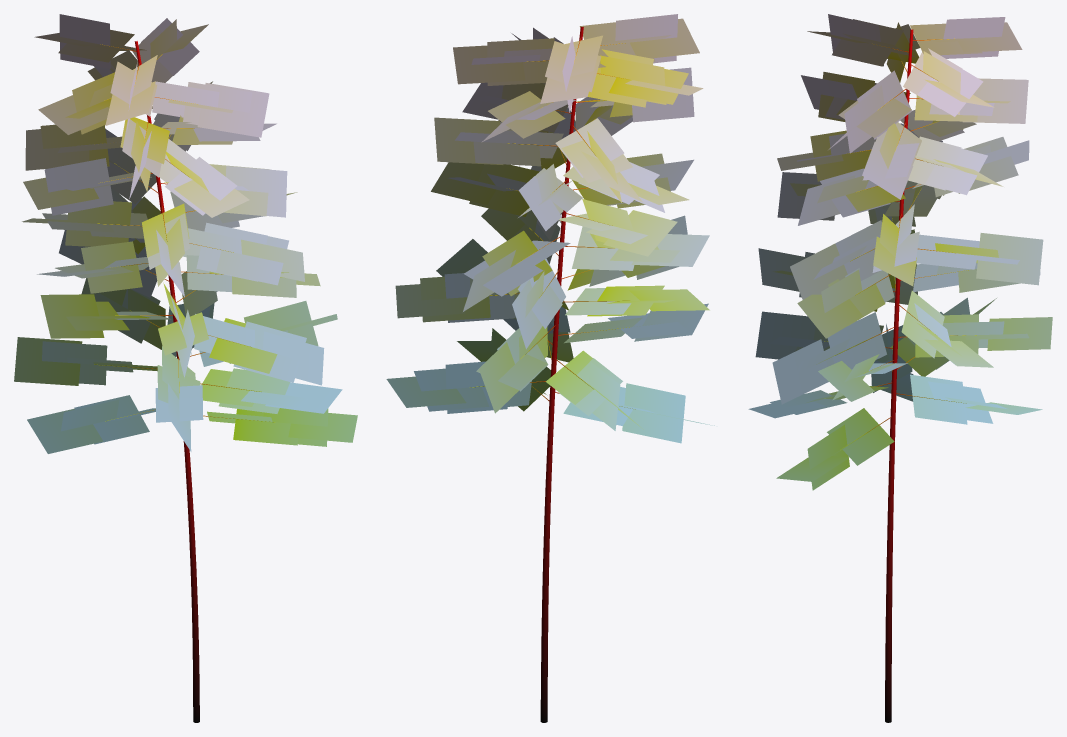
Rendered from bamboo_1.glb.
3 views of the same model, side by side, from view 1: azimuth 30°, elevation 25°; view 2: azimuth 150°, elevation 25°; view 3: azimuth 270°, elevation 25° (orthographic). The views are drawn at different scales.
Visible parts, largest first — view 1: bamboo_1_lod0; view 2: bamboo_1_lod0; view 3: bamboo_1_lod0.
Part boxes in pixels (x1,y1,x2,y2): bamboo_1_lod0: (14, 14, 357, 722); bamboo_1_lod0: (386, 14, 714, 722); bamboo_1_lod0: (748, 14, 1052, 722).
Size of what is drawn, in the model's own units: 5.5 by 12.92 by 5.28.
